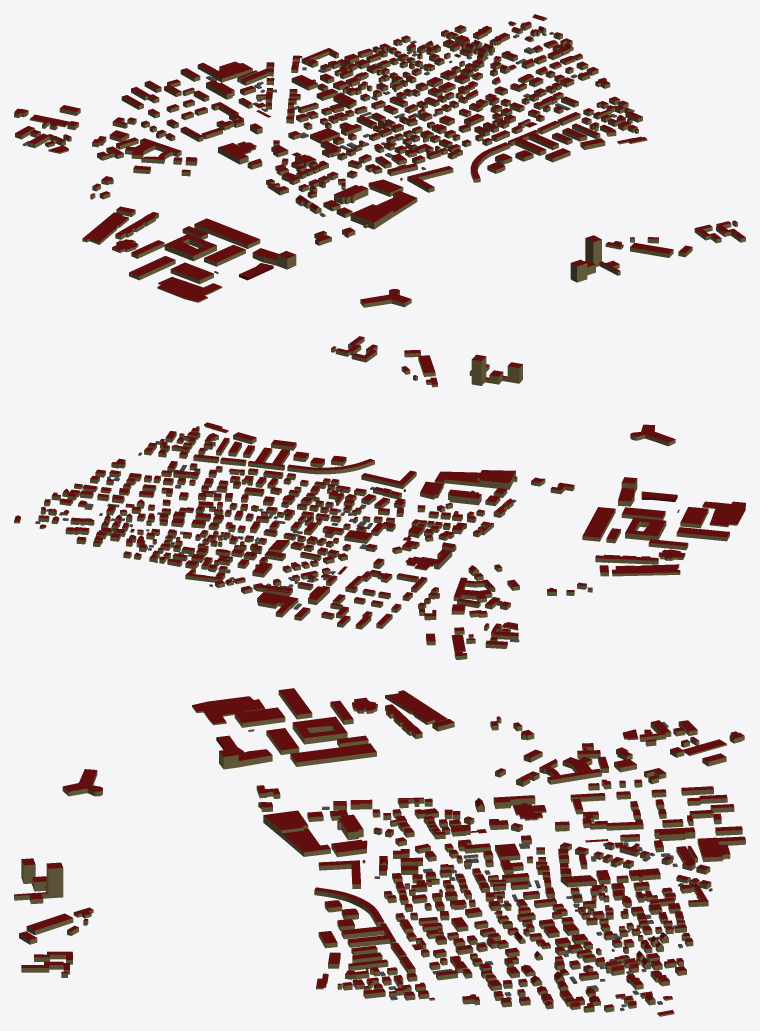
File: Ingolstadt_Tile_7_8.obj
The picture shows the model from 3 angles, top to bottom: view 1: azimuth 30°, elevation 25°; view 2: azimuth 150°, elevation 25°; view 3: azimuth 270°, elevation 25°; orthographic projection. The views are drawn at different scales.
Parts seen in each view (by area): view 1: Building Maritim Hotel + Congress Centrum Ingolstadt, Building G, Building H, Building273, Building544, Building C, Building514, Building252, object 50, Building Audi AG - MX407, Building Flankenbatterie 92, object 256 (+2 smaller); view 2: Building Maritim Hotel + Congress Centrum Ingolstadt, Building G, Building C, Building273, Building H, Building Die Schwinge, Building544, Building514, object 50, object 256; view 3: Building H, Building Maritim Hotel + Congress Centrum Ingolstadt, Building G, Building273, Building514, Building C, Building544, Building252, Building Audi AG - MX407, Building545, Building Die Schwinge, Building Flankenbatterie 92 (+5 smaller).
Part boxes in pixels (left/top/right/bottom): Building Maritim Hotel + Congress Centrum Ingolstadt: left=157, top=277, right=222, bottom=302; Building G: left=164, top=234, right=216, bottom=261; Building H: left=194, top=218, right=260, bottom=248; Building273: left=125, top=138, right=181, bottom=163; Building544: left=350, top=204, right=393, bottom=229; Building C: left=82, top=212, right=128, bottom=244; Building514: left=508, top=130, right=558, bottom=155; Building252: left=197, top=62, right=252, bottom=82; object 50: left=545, top=136, right=647, bottom=162; Building Audi AG - MX407: left=170, top=262, right=213, bottom=284; Building Flankenbatterie 92: left=360, top=289, right=411, bottom=307; object 256: left=129, top=256, right=175, bottom=280; Building Maritim Hotel + Congress Centrum Ingolstadt: left=702, top=501, right=745, bottom=527; Building G: left=625, top=517, right=666, bottom=540; Building C: left=612, top=564, right=680, bottom=576; Building273: left=453, top=577, right=495, bottom=602; Building H: left=582, top=507, right=615, bottom=541; Building Die Schwinge: left=287, top=458, right=374, bottom=474; Building544: left=477, top=470, right=515, bottom=489; Building514: left=248, top=447, right=289, bottom=470; object 50: left=204, top=422, right=296, bottom=450; object 256: left=676, top=527, right=729, bottom=541; Building H: left=290, top=743, right=376, bottom=766; Building Maritim Hotel + Congress Centrum Ingolstadt: left=192, top=696, right=265, bottom=725; Building G: left=292, top=716, right=347, bottom=744; Building273: left=539, top=756, right=601, bottom=784; Building514: left=341, top=923, right=396, bottom=947; Building C: left=385, top=690, right=447, bottom=724; Building544: left=263, top=810, right=308, bottom=837; Building252: left=697, top=836, right=745, bottom=862; Building Audi AG - MX407: left=234, top=707, right=285, bottom=727; Building545: left=281, top=828, right=323, bottom=856; Building Die Schwinge: left=314, top=887, right=384, bottom=926; Building Flankenbatterie 92: left=62, top=769, right=102, bottom=796.
Bounding box in the file's own units: 1114 × 47.5 × 1063.
